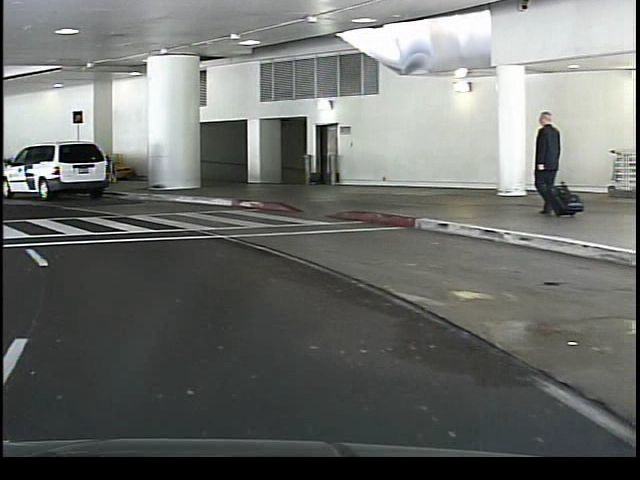person: (524, 106, 562, 221)
